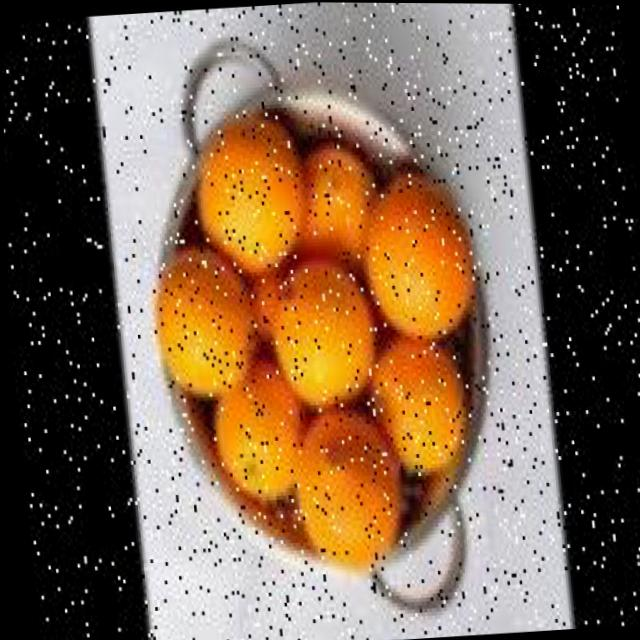orange: (357, 174, 478, 343), (189, 113, 311, 278), (286, 404, 404, 566), (262, 253, 380, 411), (149, 244, 256, 398), (365, 331, 469, 476), (206, 360, 307, 504), (297, 136, 378, 255)
